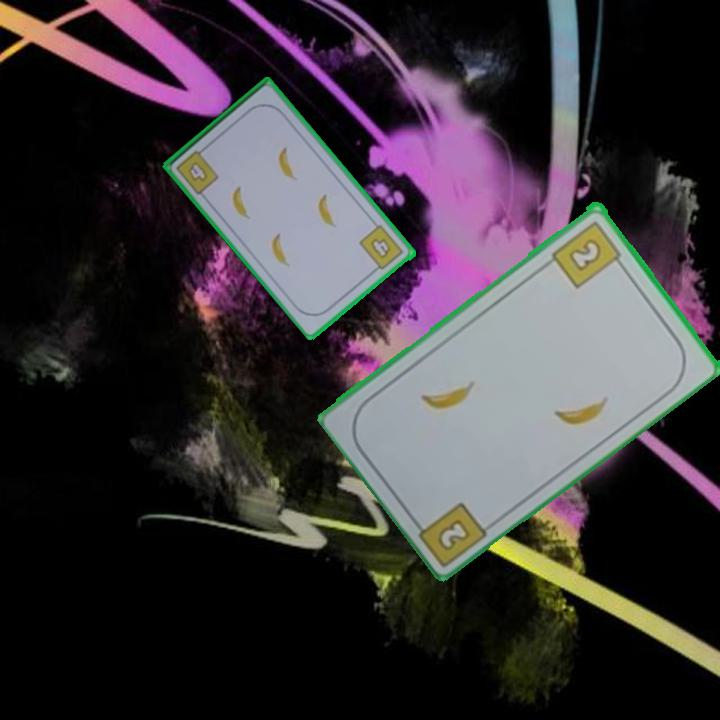2b: (548, 216, 628, 291), (433, 514, 473, 554)
4b: (356, 221, 407, 276), (185, 157, 211, 185)
